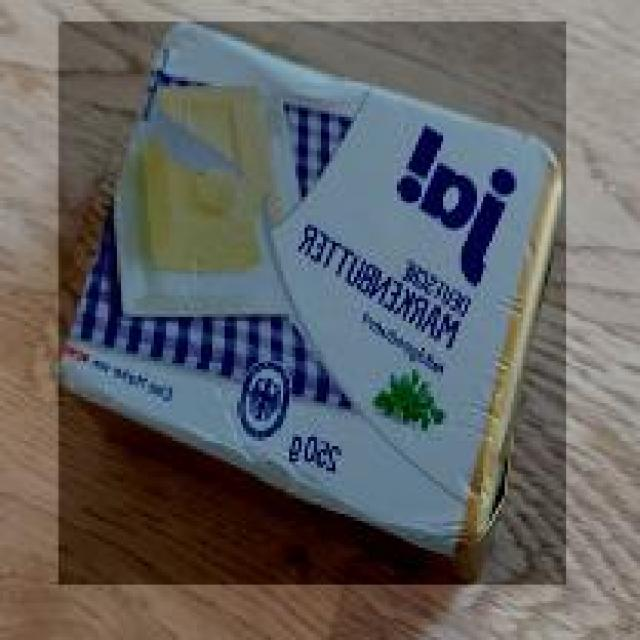butter: (56, 21, 566, 588)
